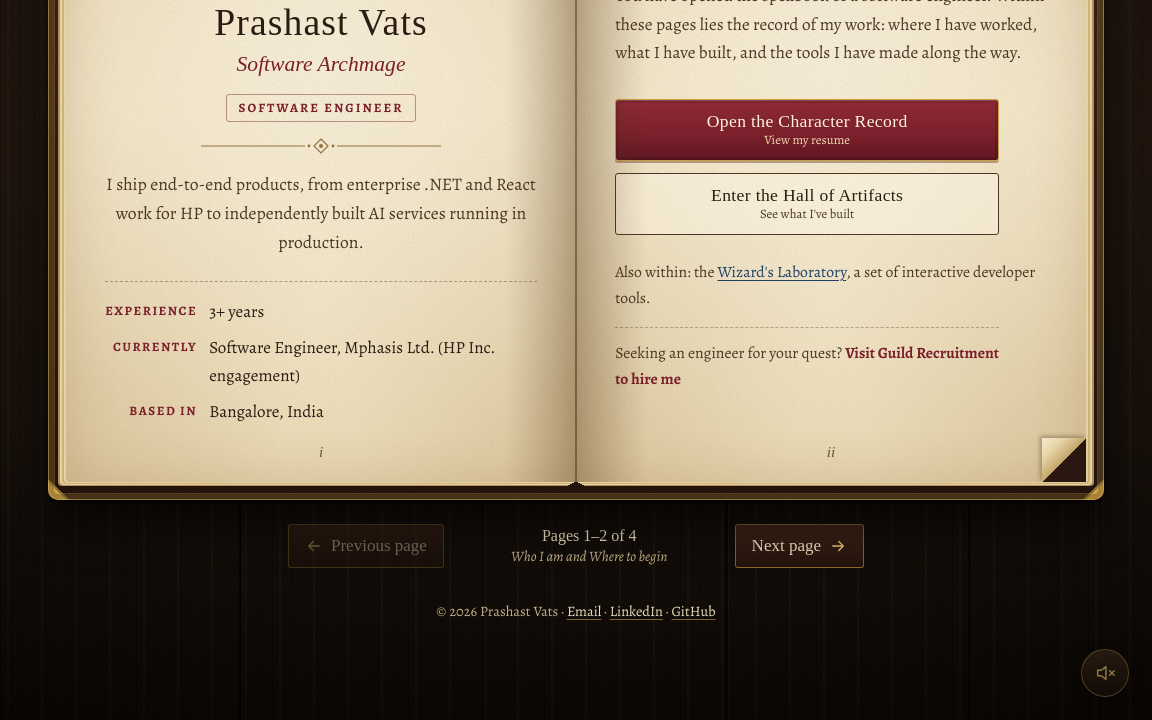
Test: spellbook home: desktop spread › second spread lists what Prashast builds and has built
(page scrolled)
Click the button "Next page" at (799, 546), box 735,524 -> 864,568
(page scrolled)
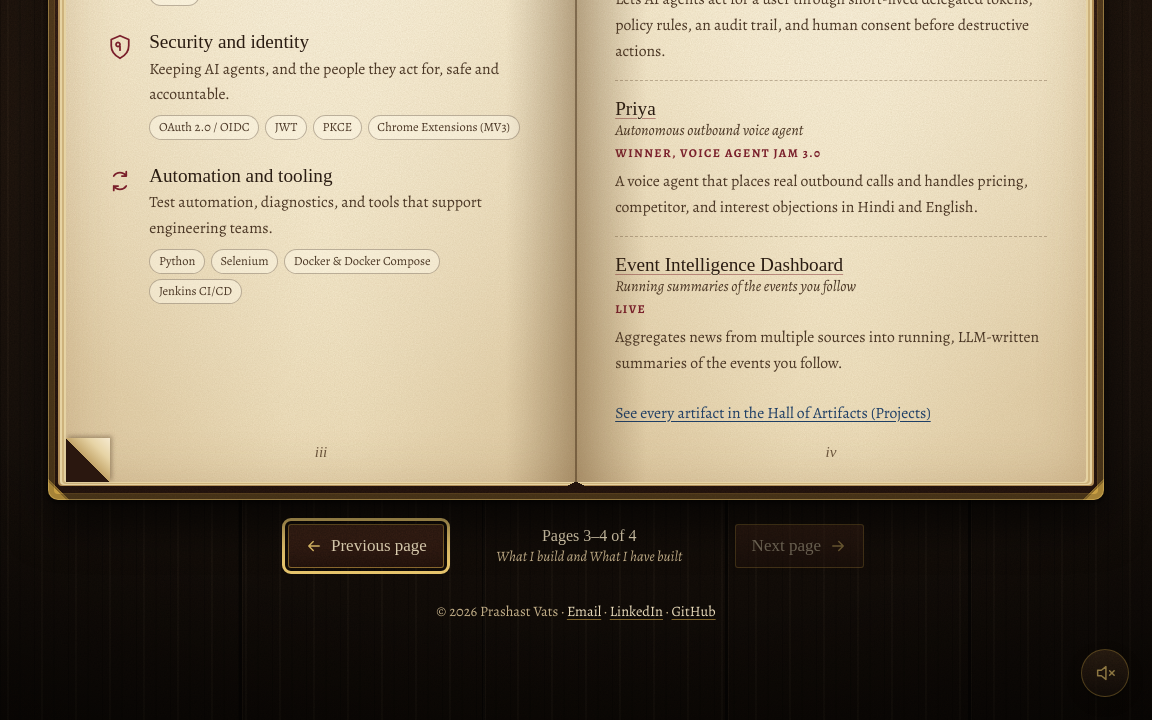
Now the heading "Security and identity" is shown, box 149,31 -> 309,52
Now the heading "Automation and tooling" is shown, box 149,165 -> 332,186
Now the heading "Priya Autonomous outbound voice agent" is shown, box 615,98 -> 803,140
